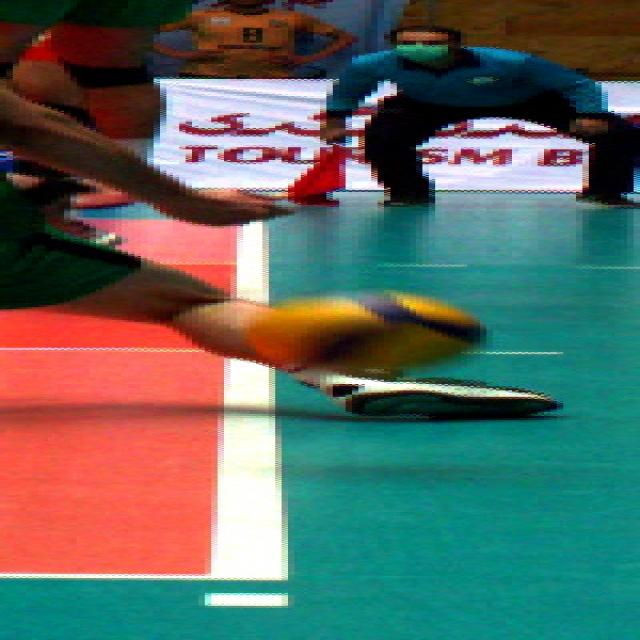Volleyball: (250, 294, 483, 373)
